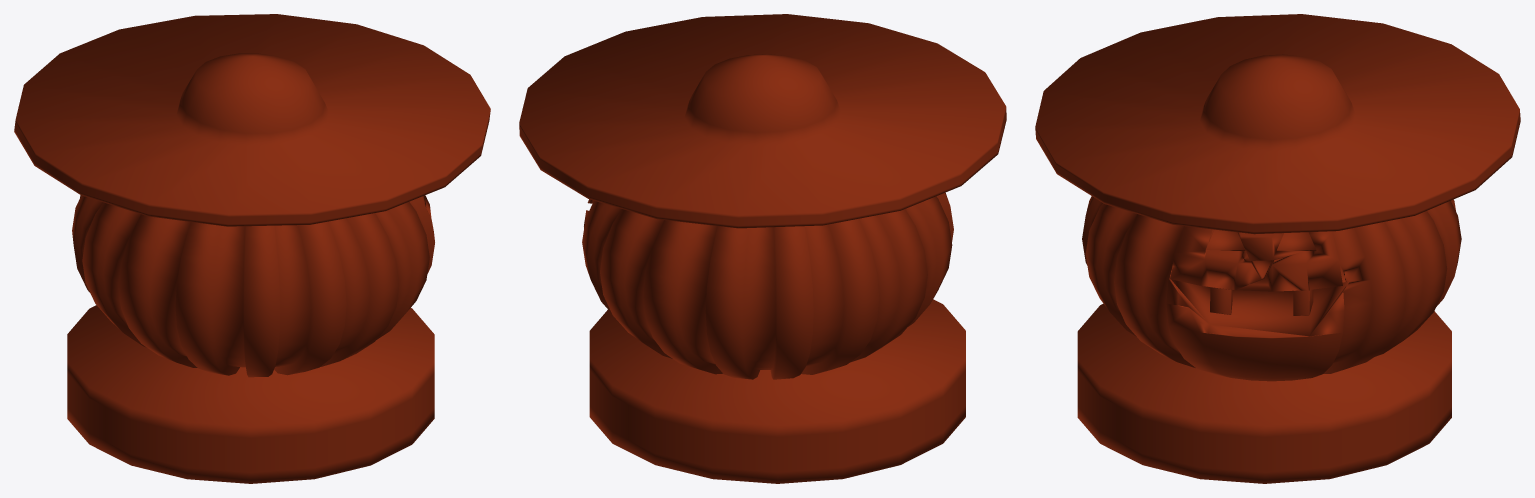
File: pumpkin.obj
The picture shows the model from 3 angles, left to right: view 1: azimuth 30°, elevation 25°; view 2: azimuth 150°, elevation 25°; view 3: azimuth 270°, elevation 25°; orthographic projection. The views are drawn at different scales.
Visible parts, largest first — view 1: Sphere001; view 2: Sphere001; view 3: Sphere001.
Part boxes in pixels (<box>): Sphere001: <box>14,14,490,483</box>; Sphere001: <box>519,14,1006,483</box>; Sphere001: <box>1035,14,1520,483</box>.
Bounding box in the file's own units: 43.92 × 34.84 × 44.
